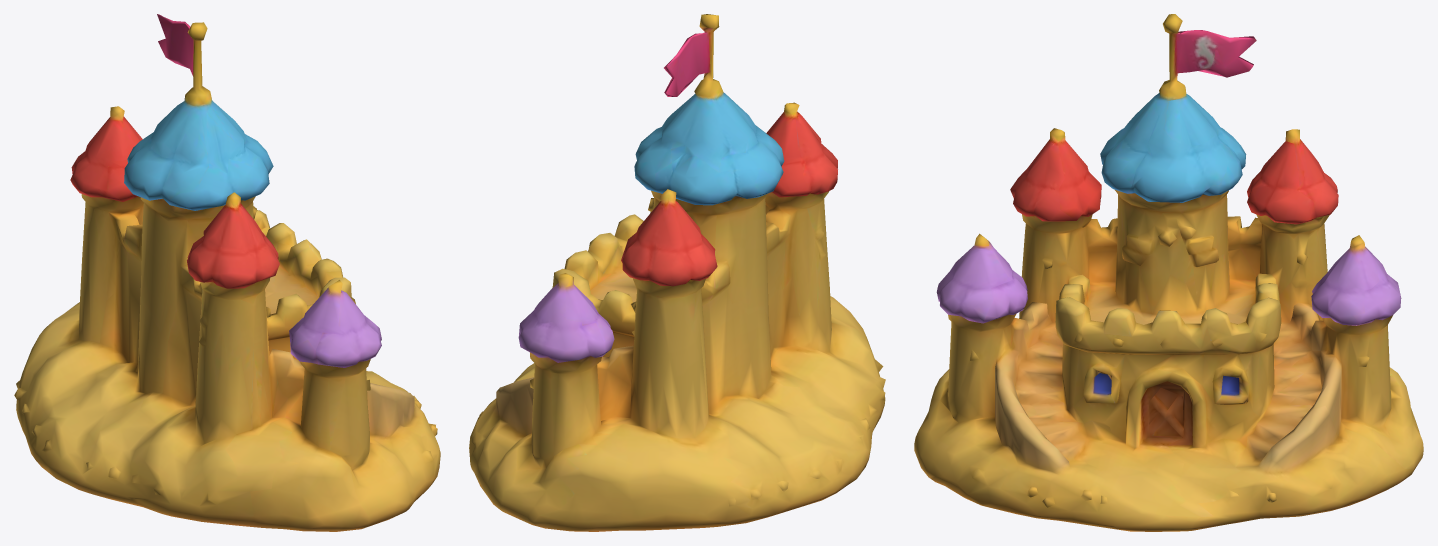
The model's file is sandcastle.glb.
3 views of the same model, side by side, from view 1: azimuth 30°, elevation 25°; view 2: azimuth 150°, elevation 25°; view 3: azimuth 270°, elevation 25° (orthographic). The views are drawn at different scales.
Parts seen in each view (by area): view 1: tripo_node_1f071c0a-5ddf-46a5-9e9b-7a5fcc755bde; view 2: tripo_node_1f071c0a-5ddf-46a5-9e9b-7a5fcc755bde; view 3: tripo_node_1f071c0a-5ddf-46a5-9e9b-7a5fcc755bde.
Boxes of the visible parts, x1,y1,x2,y2 form: tripo_node_1f071c0a-5ddf-46a5-9e9b-7a5fcc755bde: (14,14,440,531); tripo_node_1f071c0a-5ddf-46a5-9e9b-7a5fcc755bde: (469,14,885,531); tripo_node_1f071c0a-5ddf-46a5-9e9b-7a5fcc755bde: (914,14,1423,531).
Size of the model in its own units: 0.2095 by 0.25 by 0.2721.
Materials: 1 (1 with a texture image).
